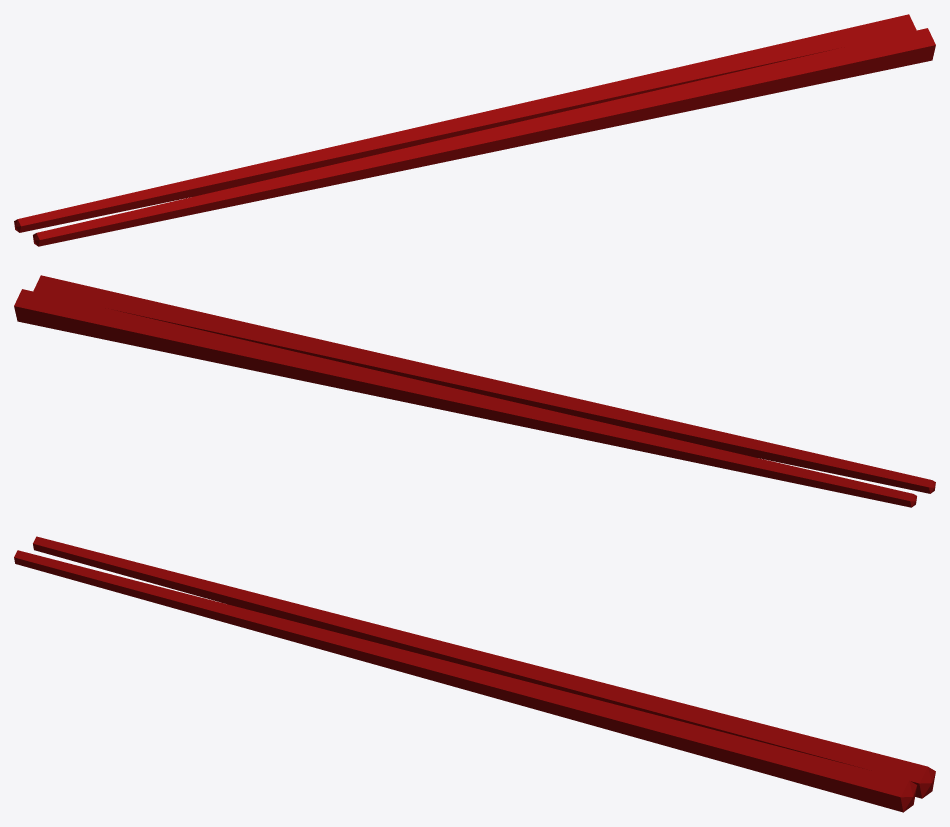
The model's file is Chopsticks.FBX.
The picture shows the model from 3 angles, top to bottom: view 1: azimuth 30°, elevation 25°; view 2: azimuth 150°, elevation 25°; view 3: azimuth 330°, elevation 25°; orthographic projection.
Visible parts, largest first — view 1: chopstick; view 2: chopstick; view 3: chopstick.
Part boxes in pixels (x1,y1,x2,y2): chopstick: [14, 14, 935, 246]; chopstick: [14, 275, 935, 507]; chopstick: [14, 536, 935, 812].
Size of the model in its own units: 0.2228 by 0.00979 by 0.0152.
